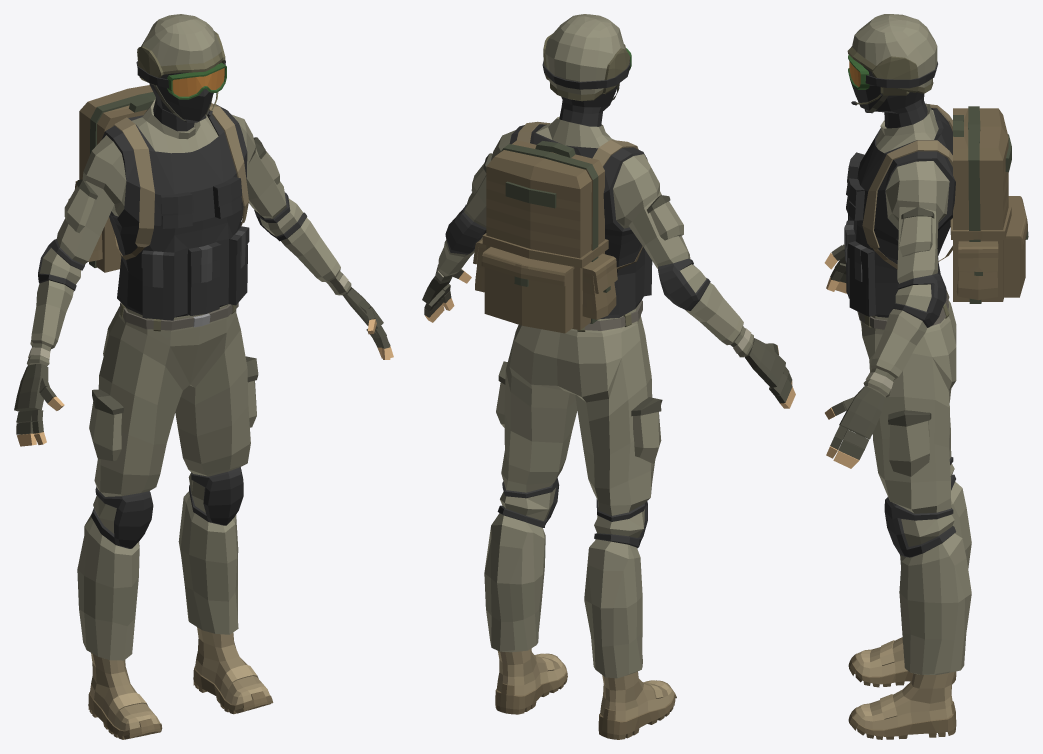
Rendered from Soldier.gltf.
3 views of the same model, side by side, from view 1: azimuth 30°, elevation 25°; view 2: azimuth 150°, elevation 25°; view 3: azimuth 270°, elevation 25° (orthographic).
Parts seen in each view (by area): view 1: Cube.011; view 2: Cube.011; view 3: Cube.011.
Part boxes in pixels (bbox=[...]): Cube.011: bbox=[14, 14, 393, 739]; Cube.011: bbox=[422, 14, 795, 739]; Cube.011: bbox=[824, 14, 1028, 739].
Bounding box in the file's own units: 1.06 × 1.92 × 0.5187.
1 material, 1 textured.
